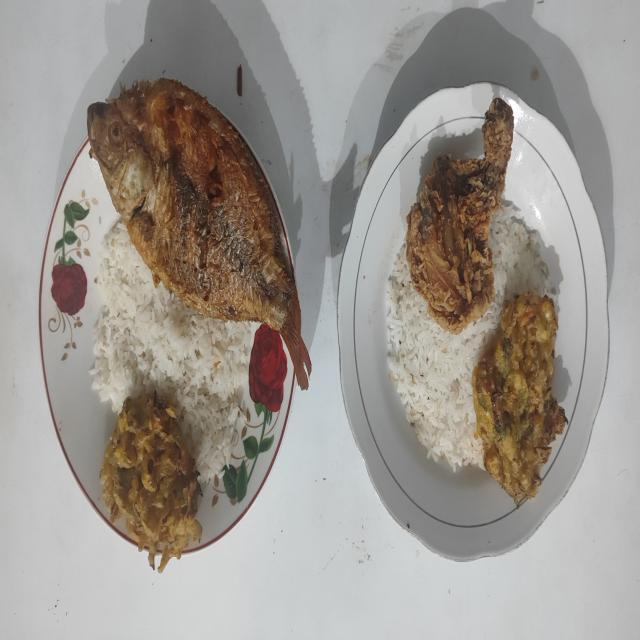ikan_mujair: (88, 78, 312, 389)
nasi_putih: (386, 204, 550, 472), (90, 223, 257, 483)
